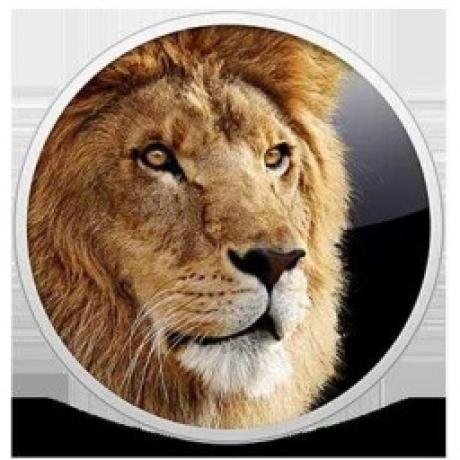Lion: (29, 15, 356, 434)
